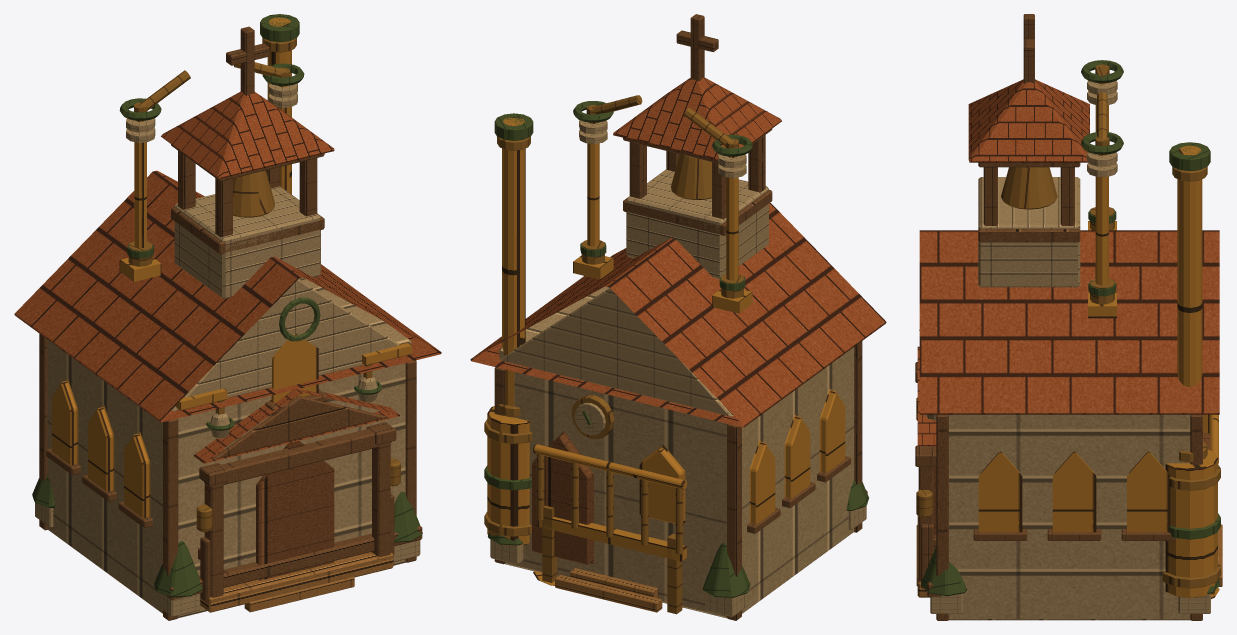
Rendered from chapel.e4.glb.
3 views of the same model, side by side, from view 1: azimuth 30°, elevation 25°; view 2: azimuth 150°, elevation 25°; view 3: azimuth 270°, elevation 25° (orthographic). The views are drawn at different scales.
Visible parts, largest first — view 1: ChapelE4; view 2: ChapelE4; view 3: ChapelE4.
Part boxes in pixels (x1,y1,x2,y2): ChapelE4: [14, 14, 441, 620]; ChapelE4: [470, 14, 886, 620]; ChapelE4: [915, 14, 1222, 620].
Bounding box in the file's own units: 3.46 × 6.25 × 3.19.
Materials: 1 (1 with a texture image).
